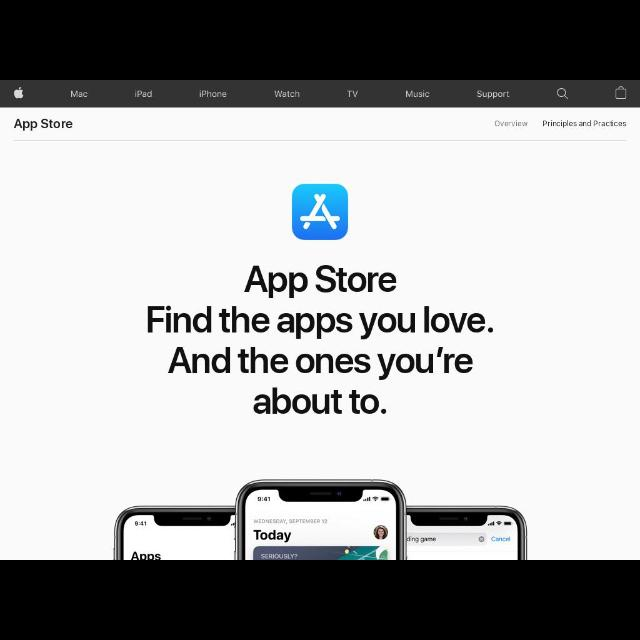backgroundimage: (1, 140, 636, 558)
icon: (614, 84, 628, 100), (556, 87, 570, 101), (13, 86, 25, 100)
image: (288, 182, 352, 242)
text: (136, 254, 504, 428), (12, 115, 74, 133), (540, 118, 628, 130), (494, 119, 528, 128), (198, 88, 228, 98), (476, 90, 510, 98), (404, 90, 430, 98), (274, 90, 300, 98), (134, 89, 156, 97), (70, 90, 88, 98), (346, 89, 360, 97)
toolbar: (1, 82, 640, 106)
